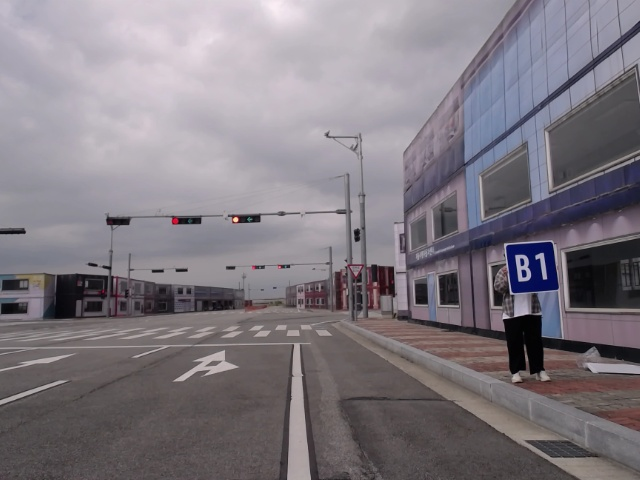delivery_b1: (504, 241, 560, 294)
left_green_4: (231, 214, 261, 223), (171, 216, 201, 224), (252, 265, 265, 270), (278, 265, 291, 269)
